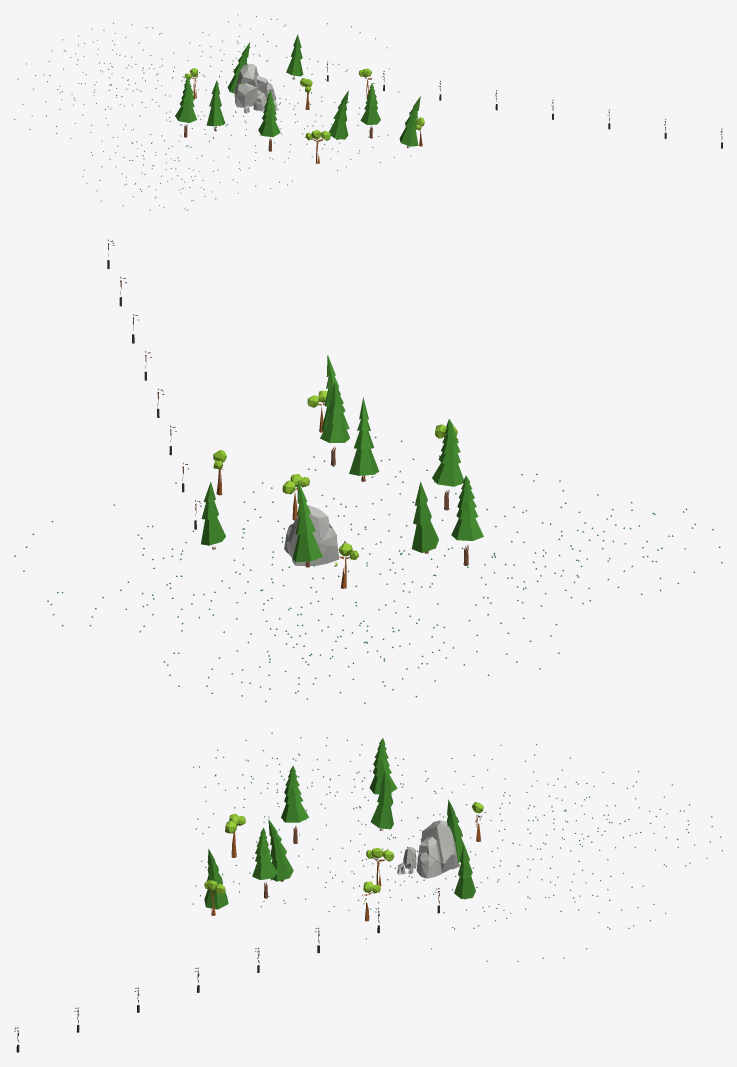
The model's file is chunk_0_2_lod2.glb.
3 views of the same model, one above another, from view 1: azimuth 30°, elevation 25°; view 2: azimuth 150°, elevation 25°; view 3: azimuth 270°, elevation 25° (orthographic). The views are drawn at different scales.
Parts seen in each view (by area): view 1: Batched_chunk_0_2_lod2; view 2: Batched_chunk_0_2_lod2; view 3: Batched_chunk_0_2_lod2.
Part boxes in pixels (x1,y1,x2,y2): Batched_chunk_0_2_lod2: (14, 14, 722, 210); Batched_chunk_0_2_lod2: (14, 239, 722, 703); Batched_chunk_0_2_lod2: (14, 732, 722, 1052).
Size of the model in its own units: 110 by 12.51 by 103.
7 materials, 2 textured.
